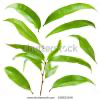Peach leaf: (43, 3, 97, 27), (3, 17, 43, 47), (3, 2, 41, 32), (44, 19, 97, 40), (45, 74, 97, 93), (68, 34, 98, 65), (4, 66, 35, 95), (4, 41, 44, 62), (48, 55, 93, 71), (46, 37, 66, 63)
